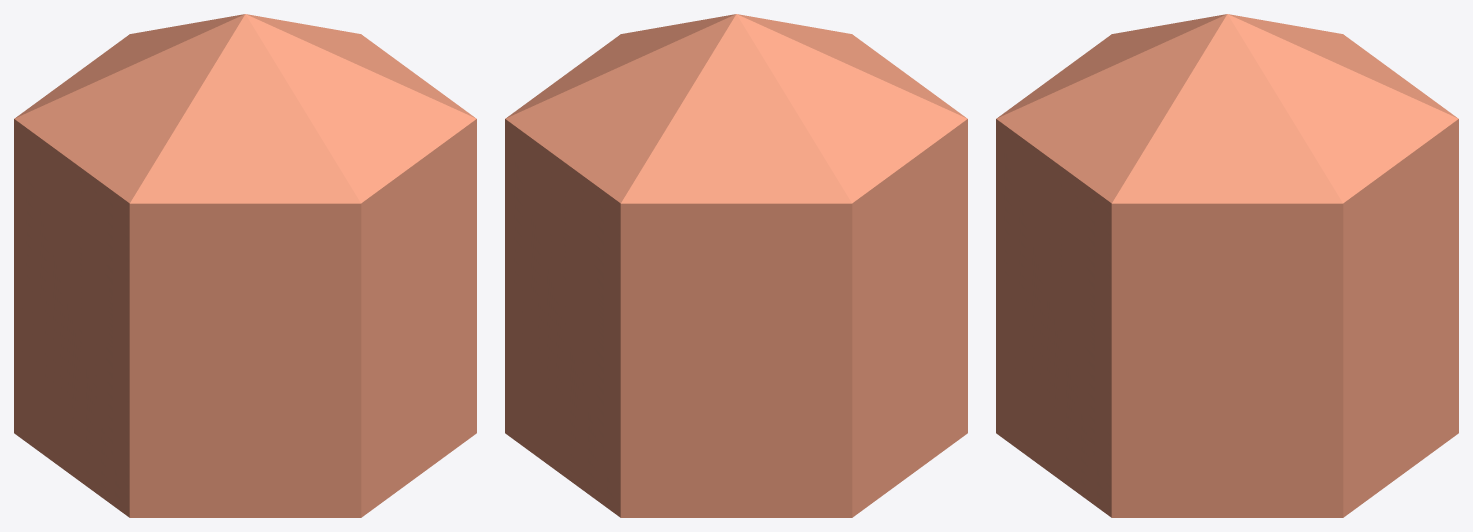
File: Player.gltf
3 views of the same model, side by side, from view 1: azimuth 30°, elevation 25°; view 2: azimuth 150°, elevation 25°; view 3: azimuth 270°, elevation 25° (orthographic).
Parts seen in each view (by area): view 1: 円柱; view 2: 円柱; view 3: 円柱.
Boxes of the visible parts, x1=… form: 円柱: x1=14, y1=14, x2=476, y2=517; 円柱: x1=505, y1=14, x2=967, y2=517; 円柱: x1=996, y1=14, x2=1458, y2=517.
Size of the model in its own units: 0.866 by 1 by 1.
